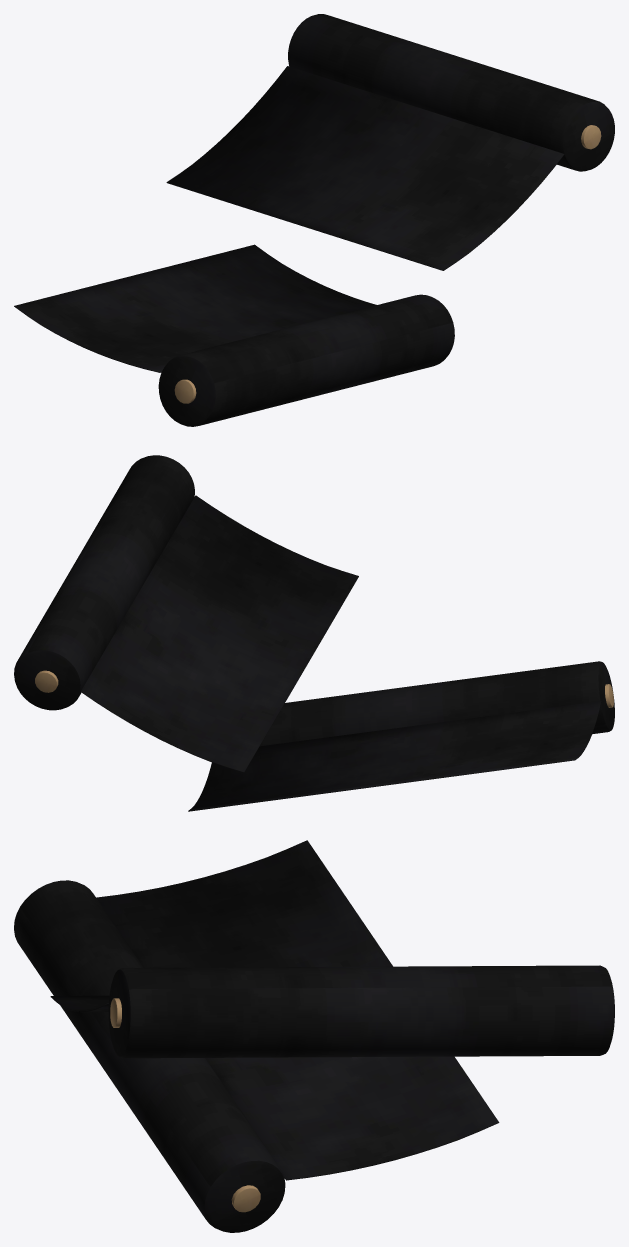
Rendered from FUN-LAS-003_anim.glb.
3 renders of one model, top to bottom at view 1: azimuth 30°, elevation 25°; view 2: azimuth 150°, elevation 25°; view 3: azimuth 270°, elevation 25°, orthographic. The views are drawn at different scales.
Visible parts, largest first — view 1: FUN-LAS-003_anim1, FUN-LAS-003_anim0; view 2: FUN-LAS-003_anim1, FUN-LAS-003_anim0; view 3: FUN-LAS-003_anim0, FUN-LAS-003_anim1.
Boxes of the visible parts, x1=… form: FUN-LAS-003_anim1: x1=166, y1=14, x2=614, y2=270; FUN-LAS-003_anim0: x1=14, y1=244, x2=454, y2=426; FUN-LAS-003_anim1: x1=14, y1=455, x2=358, y2=772; FUN-LAS-003_anim0: x1=188, y1=661, x2=614, y2=811; FUN-LAS-003_anim0: x1=14, y1=840, x2=499, y2=1232; FUN-LAS-003_anim1: x1=50, y1=965, x2=614, y2=1058.
Bounding box in the file's own units: 1.5 × 0.7272 × 1.2.
Materials: 2 (2 with a texture image).
